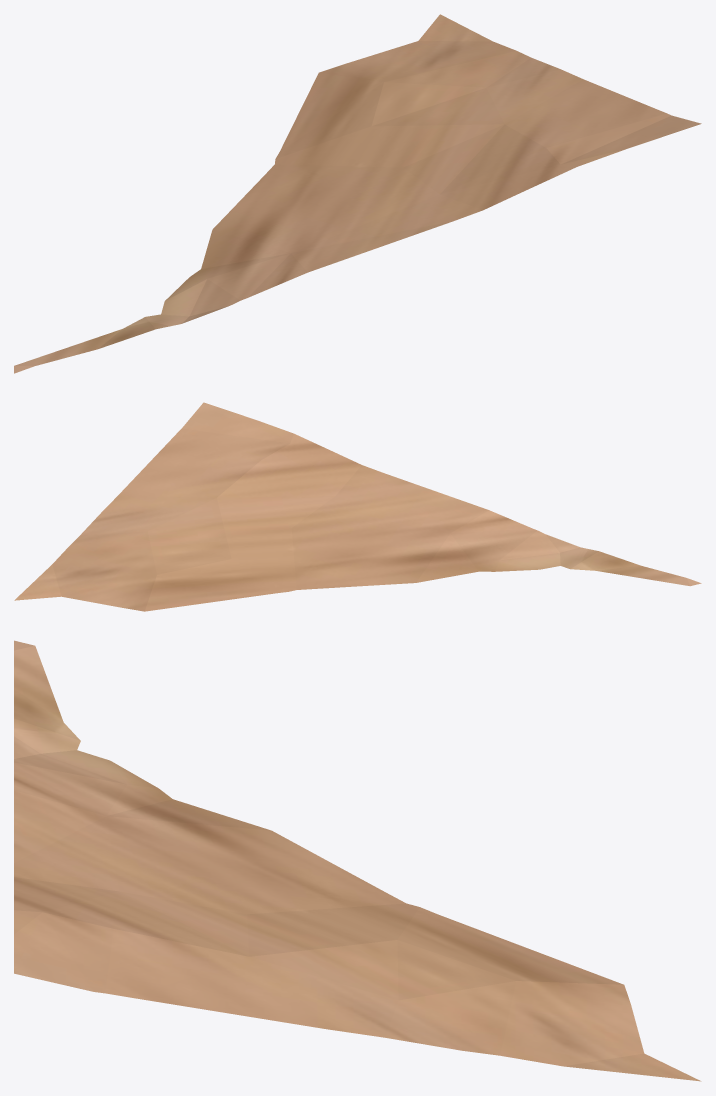
3 views of the same model, one above another, from view 1: azimuth 30°, elevation 25°; view 2: azimuth 150°, elevation 25°; view 3: azimuth 270°, elevation 25° (orthographic). The views are drawn at different scales.
Bounding box in the file's own units: 0.9157 × 0.1044 × 0.6037.
1 material, 1 textured.
